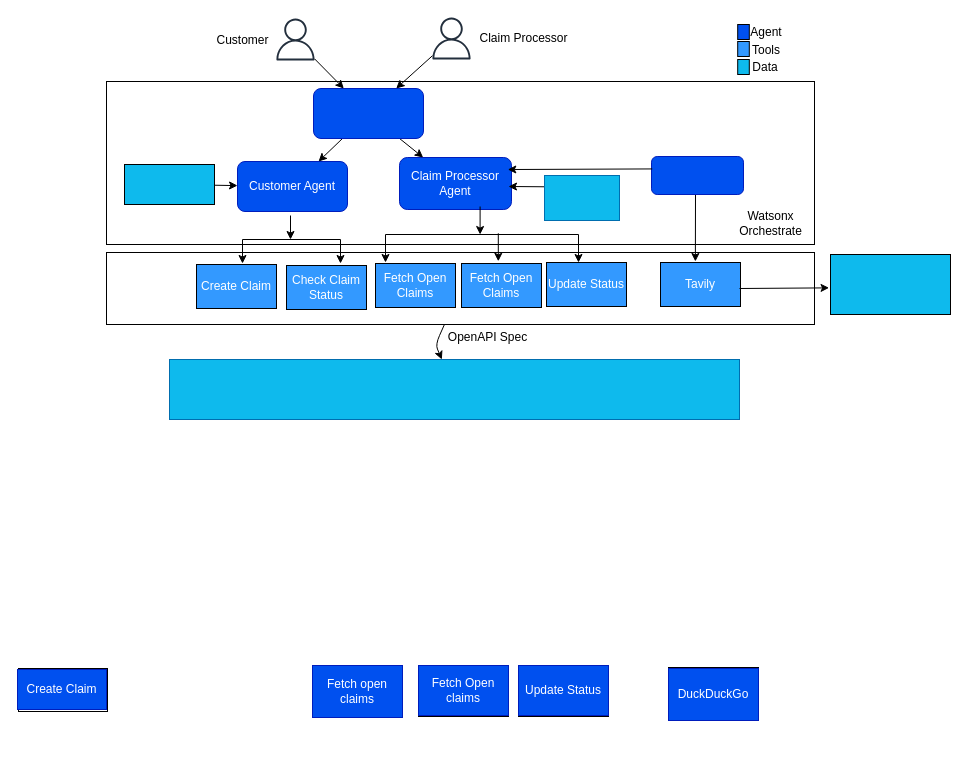
The diagram is 968 pixels wide and 782 high, and some of its shapes have lost their labels. The shapes that lost their labels are listed below. From the top down, each one's centre as x and y in pixels, then its label:
At point 368,113: "Supervisor Agent".
At point 169,184: "FAQ Knowledge".
At point 697,175: "Information Agent".
At point 582,197: "Rules & SOP Knowledge".
At point 890,284: "Internet".
At point 454,389: "Policy Administration System (PAS)".
